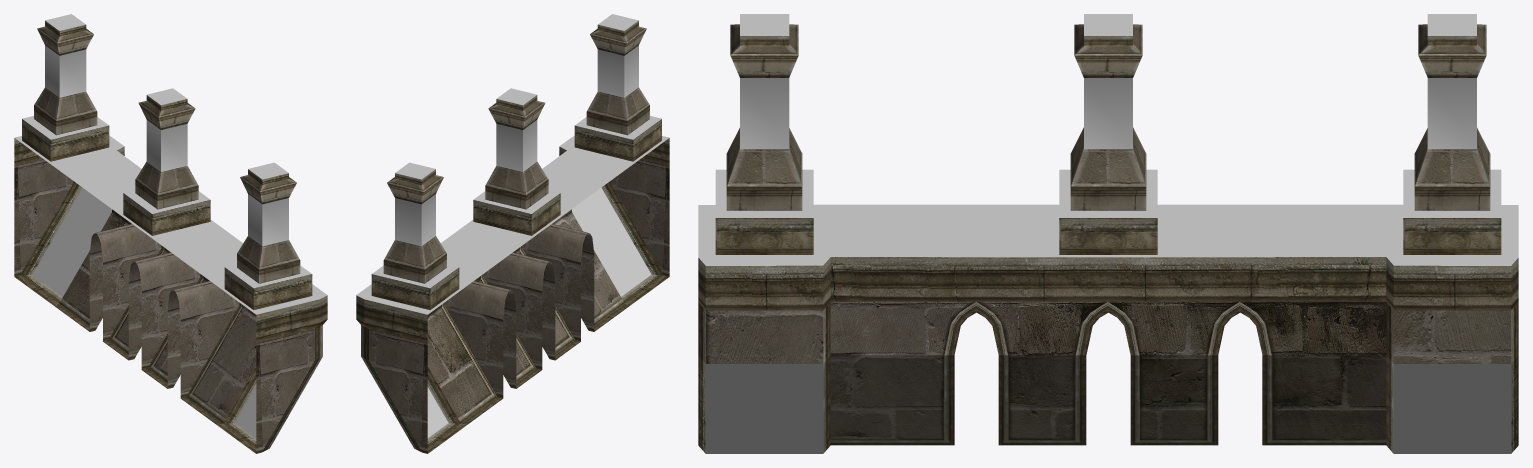
Rendered from SM_Tower_BuildingDetail_02.FBX.
3 renders of one model, left to right at view 1: azimuth 30°, elevation 25°; view 2: azimuth 150°, elevation 25°; view 3: azimuth 270°, elevation 25°, orthographic. The views are drawn at different scales.
Parts seen in each view (by area): view 1: SM_Tower_BuildingDetail_02; view 2: SM_Tower_BuildingDetail_02; view 3: SM_Tower_BuildingDetail_02.
Boxes of the visible parts, box(x1,y1,x2,y2) form: SM_Tower_BuildingDetail_02: box(14, 14, 327, 453); SM_Tower_BuildingDetail_02: box(356, 14, 669, 453); SM_Tower_BuildingDetail_02: box(698, 14, 1518, 453).
Size of what is drawn, in the model's own units: 161 by 916 by 545.
